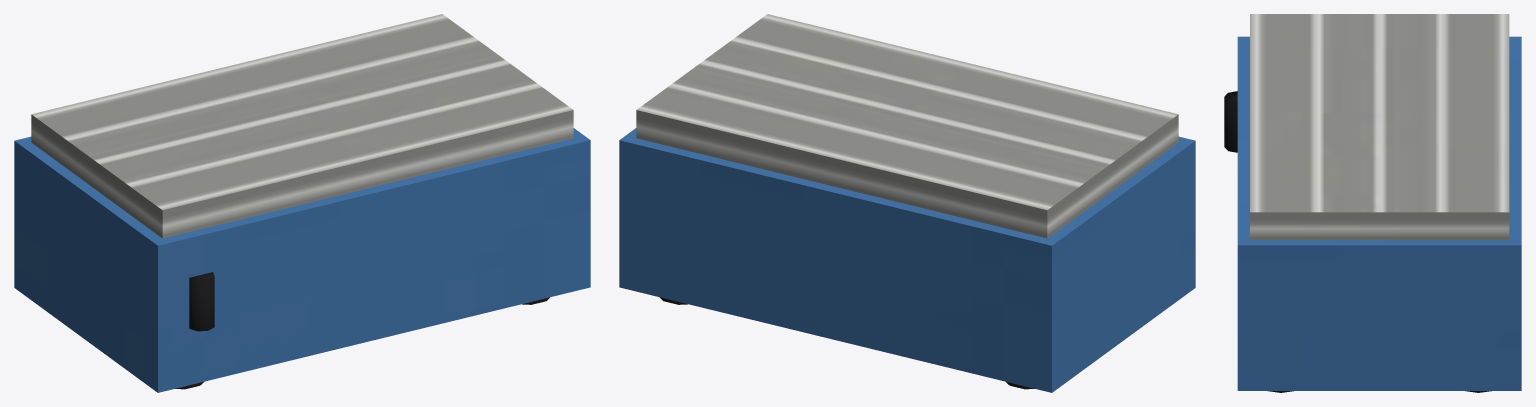
Rendered from prop_airpump.glb.
3 views of the same model, side by side, from view 1: azimuth 30°, elevation 25°; view 2: azimuth 150°, elevation 25°; view 3: azimuth 270°, elevation 25° (orthographic).
Visible parts, largest first — view 1: body, lid, feet; view 2: body, lid; view 3: lid, body, feet.
Boxes of the visible parts, left/top/right/bottom form: body: left=14, top=128, right=590, bottom=392; lid: left=31, top=14, right=573, bottom=238; feet: left=175, top=272, right=549, bottom=389; body: left=619, top=128, right=1195, bottom=392; lid: left=636, top=14, right=1178, bottom=238; lid: left=1250, top=14, right=1509, bottom=240; body: left=1237, top=36, right=1521, bottom=390; feet: left=1224, top=91, right=1491, bottom=392.
Bounding box in the file's own units: 8 × 3.3 × 4.82.
Materials: 3 (2 with a texture image).
